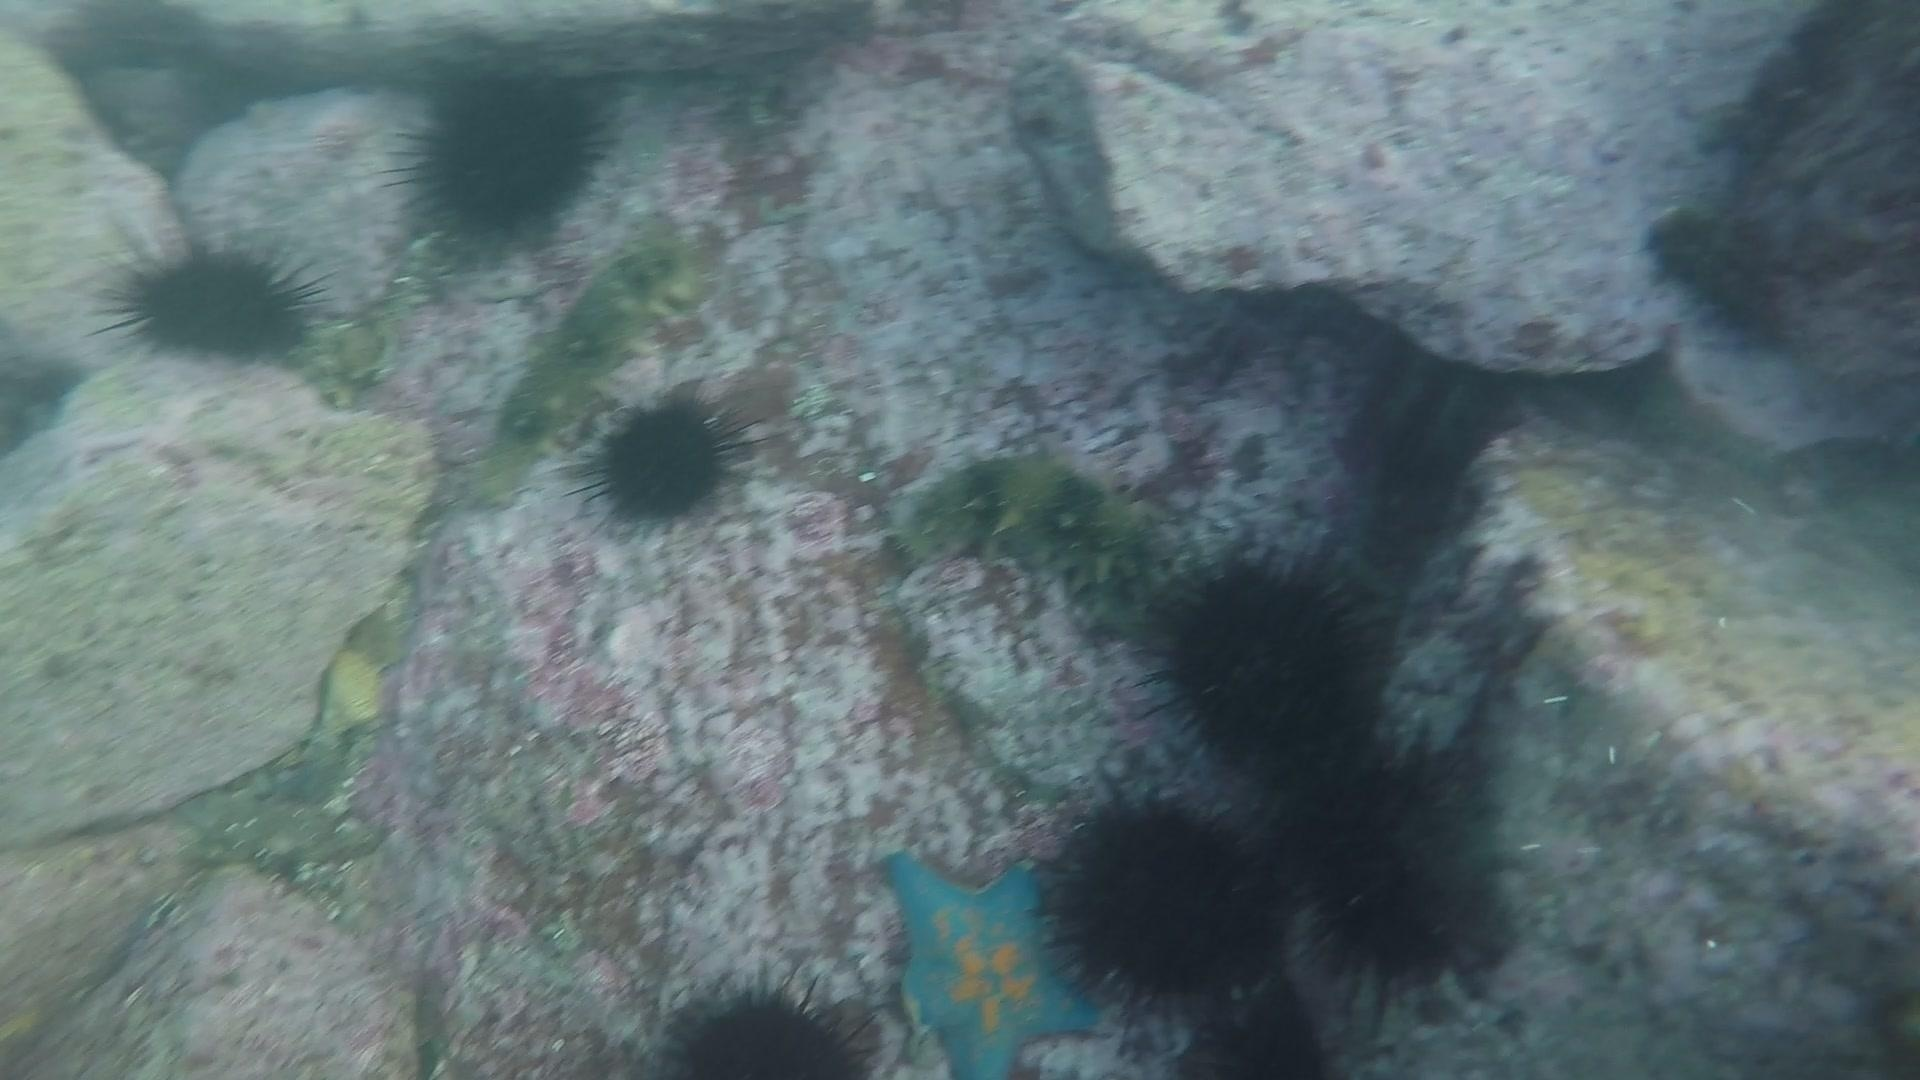echinus: (1269, 733, 1519, 1009), (1135, 543, 1382, 781), (1038, 787, 1284, 1022), (386, 57, 617, 257), (102, 232, 332, 371), (568, 382, 758, 531), (651, 963, 885, 1077), (1162, 986, 1345, 1080)
holothurian: (467, 225, 709, 502), (887, 443, 1176, 613)
starfish: (869, 843, 1109, 1077)
